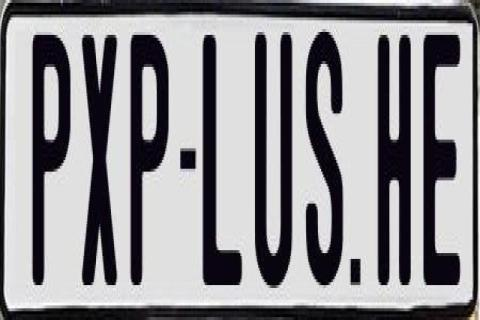E: (424, 35, 466, 303)
H: (376, 32, 413, 291)
L: (200, 32, 240, 285)
P: (31, 35, 73, 285), (131, 35, 171, 291)
S: (305, 24, 346, 294)
U: (253, 23, 291, 280)
X: (81, 29, 118, 288)
